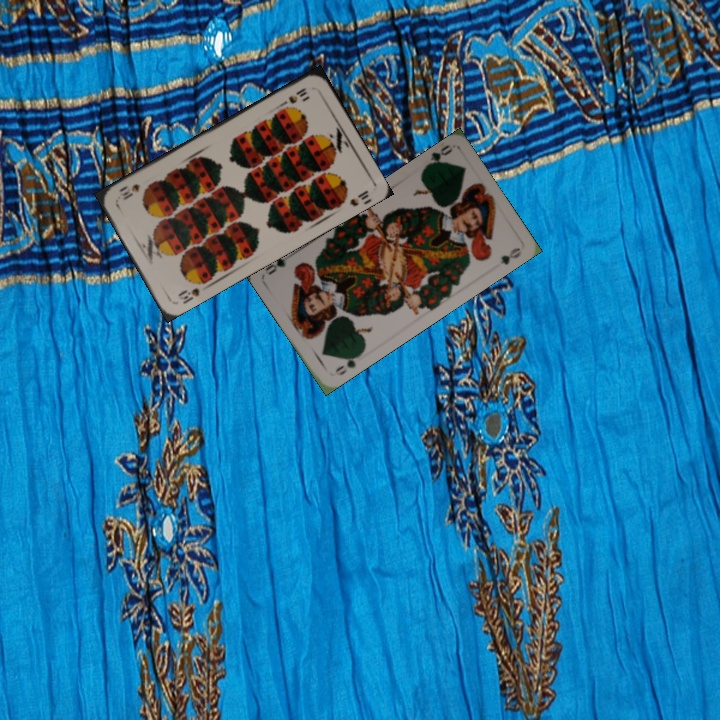GO: (420, 141, 455, 172), (330, 349, 364, 378)
S10: (277, 84, 310, 109), (174, 283, 202, 307)
